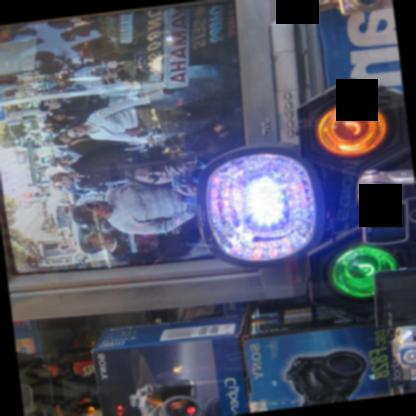handbag: (126, 127, 146, 137)
